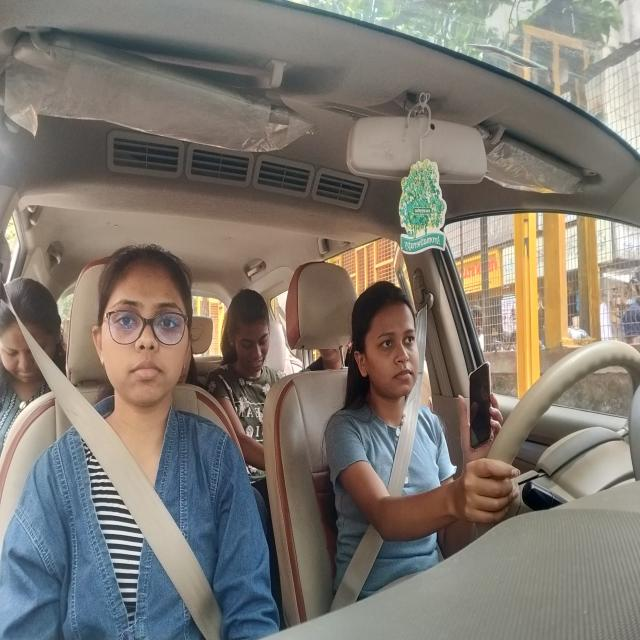mobile: (460, 351, 501, 451)
person: (93, 253, 189, 401), (352, 296, 422, 394), (3, 275, 59, 382), (215, 283, 273, 382)
